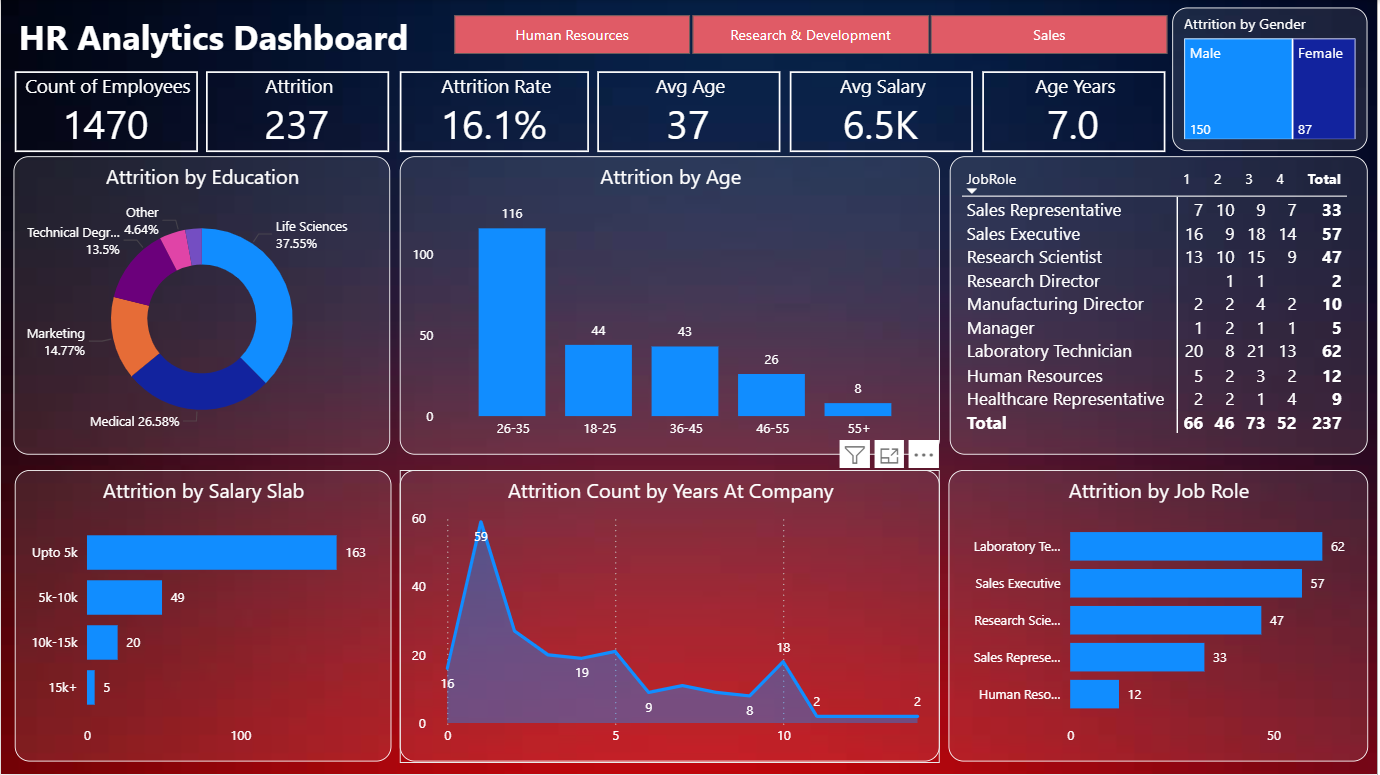

The dashboard page shown, as its layout file describes it:
{"tool":"powerbi","page":{"name":"Attrition Report","canvas":[1280,720],"ordinal":0},"visuals":[{"type":"card","title":"Count of Employees","fields":{"Values":["Count(HR_Analytics.EmpID)"]},"box":[12.5,66.2,170,75],"z":0},{"type":"card","title":"Attrition","fields":{"Values":["Measures (2).Attrition Count"]},"box":[191.2,66.2,170,75],"z":1000},{"type":"card","title":"Attrition Rate","fields":{"Values":["Measures Table.Attrition Rate"]},"box":[371.2,66.2,176,75],"z":2000},{"type":"card","title":"Avg Age","fields":{"Values":["Avg(HR_Analytics.Age)"]},"box":[555,66.2,170,75],"z":3000},{"type":"card","title":"Age Years","fields":{"Values":["Avg(HR_Analytics.YearsAtCompany)"]},"box":[912.5,66.2,170,75],"z":4000},{"type":"card","title":"Avg Salary","fields":{"Values":["Avg(HR_Analytics.MonthlyIncome)"]},"box":[733.8,66.2,170,75],"z":5000},{"type":"donutChart","title":"Attrition by Education ","fields":{"Category":["HR_Analytics.EducationField"],"Y":["Measures Table.Attrition Count"]},"box":[11.2,145,350,277.5],"z":6000},{"type":"columnChart","title":"Attrition by Age","fields":{"Y":["Measures Table.Attrition Count"],"Category":["HR_Analytics.AgeGroup"]},"box":[371.2,145,502.5,277.5],"z":7000},{"type":"pivotTable","fields":{"Rows":["HR_Analytics.JobRole"],"Columns":["HR_Analytics.JobSatisfaction"],"Values":["Measures Table.Attrition Count"]},"box":[882.5,145,388.8,277.5],"z":8000},{"type":"barChart","title":"Attrition by Salary Slab","fields":{"Category":["HR_Analytics.SalarySlab"],"Y":["Measures Table.Attrition Count"]},"box":[12.5,437.5,350,271.2],"z":9000},{"type":"areaChart","title":"Attrition Count by Years At Company","fields":{"Y":["Measures Table.Attrition Count"],"Category":["HR_Analytics.YearsAtCompany"]},"box":[371.2,437.5,502.5,271.2],"z":10000},{"type":"barChart","title":"Attrition by Job Role","fields":{"Y":["Measures Table.Attrition Count"],"Category":["HR_Analytics.JobRole"]},"box":[881.2,437.5,390,271.2],"z":11000},{"type":"treemap","title":"Attrition by Gender","fields":{"Values":["Measures Table.Attrition Count"],"Group":["HR_Analytics.Gender"]},"box":[1090,7.5,181.2,133.8],"z":12000},{"type":"slicer","fields":{"Values":["HR_Analytics.Department"]},"box":[395,7.5,713.8,50],"z":13000},{"type":"textbox","box":[11.2,7.5,505,58.8],"z":14000}]}

Visuals, with their boxes in screenshot pixels (x1, y1, x2, y2), scaled from the page's 1280x720 canvas onto the 1380x775 screenshot:
"Count of Employees" card: bbox=(13, 71, 197, 152)
"Attrition" card: bbox=(206, 71, 389, 152)
"Attrition Rate" card: bbox=(400, 71, 590, 152)
"Avg Age" card: bbox=(598, 71, 782, 152)
"Age Years" card: bbox=(984, 71, 1167, 152)
"Avg Salary" card: bbox=(791, 71, 974, 152)
"Attrition by Education " donutChart: bbox=(12, 156, 389, 455)
"Attrition by Age" columnChart: bbox=(400, 156, 942, 455)
pivotTable - HR_Analytics.JobRole x HR_Analytics.JobSatisfaction: bbox=(951, 156, 1371, 455)
"Attrition by Salary Slab" barChart: bbox=(13, 471, 391, 763)
"Attrition Count by Years At Company" areaChart: bbox=(400, 471, 942, 763)
"Attrition by Job Role" barChart: bbox=(950, 471, 1371, 763)
"Attrition by Gender" treemap: bbox=(1175, 8, 1371, 152)
slicer - HR_Analytics.Department: bbox=(426, 8, 1195, 62)
textbox: bbox=(12, 8, 557, 71)
